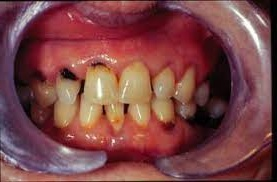Caries: (75, 54, 122, 78), (52, 66, 89, 85), (158, 114, 184, 133)
